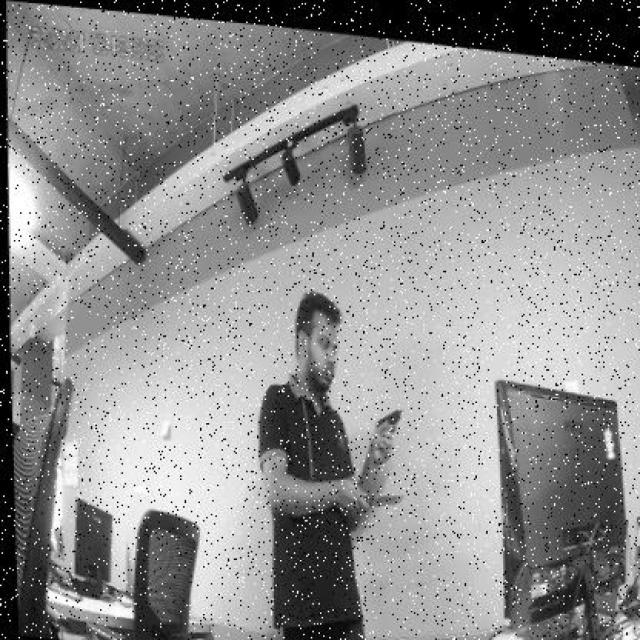weapon: (372, 410, 405, 465)
